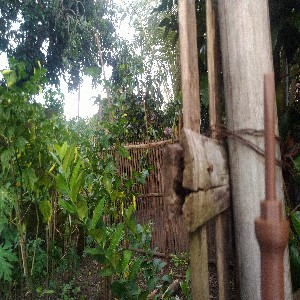obeng: (254, 73, 291, 300)
